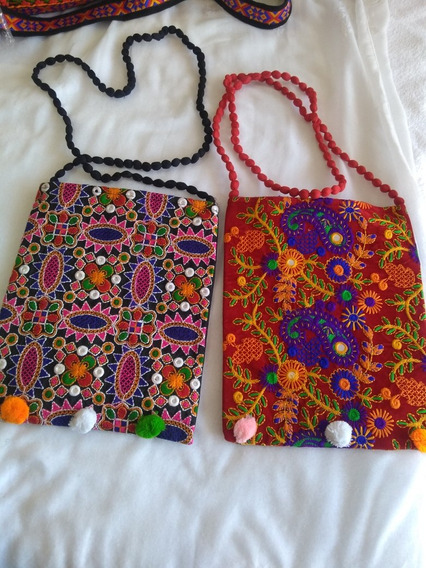cartera: (3, 26, 219, 447), (213, 72, 426, 452)
